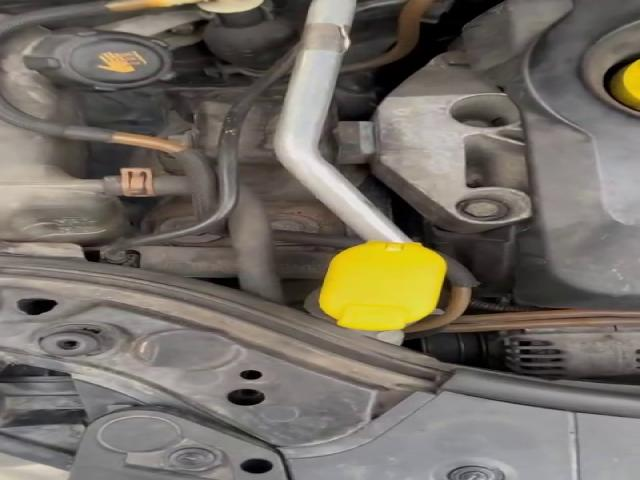antifreeze_tank: (0, 25, 172, 127), (2, 123, 124, 242)
